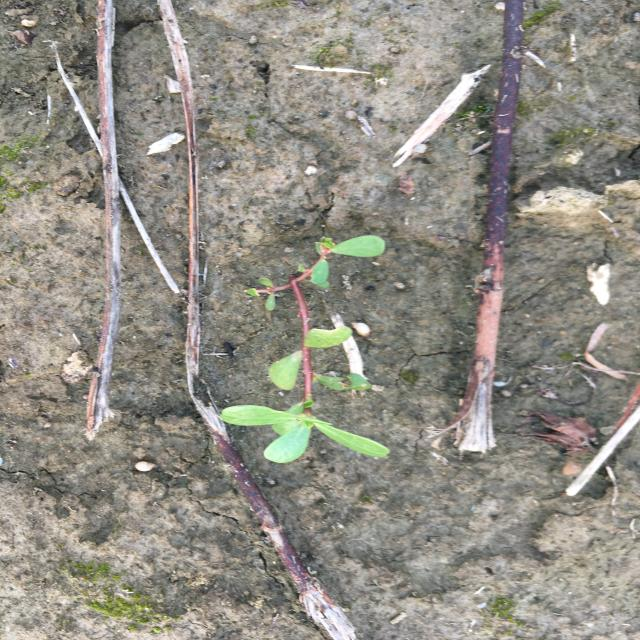Purslane: (218, 235, 392, 465)
